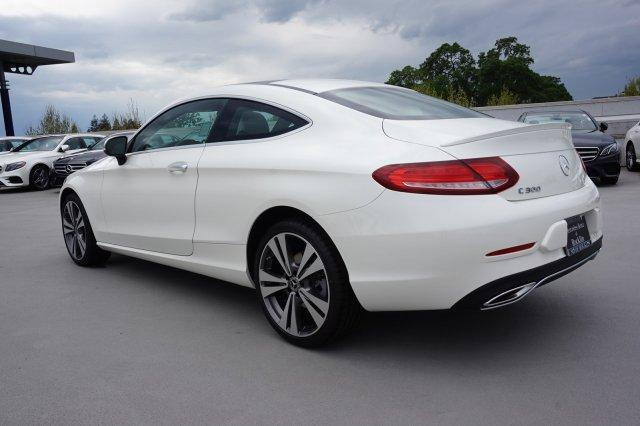C300Coupe: (50, 74, 610, 349)
